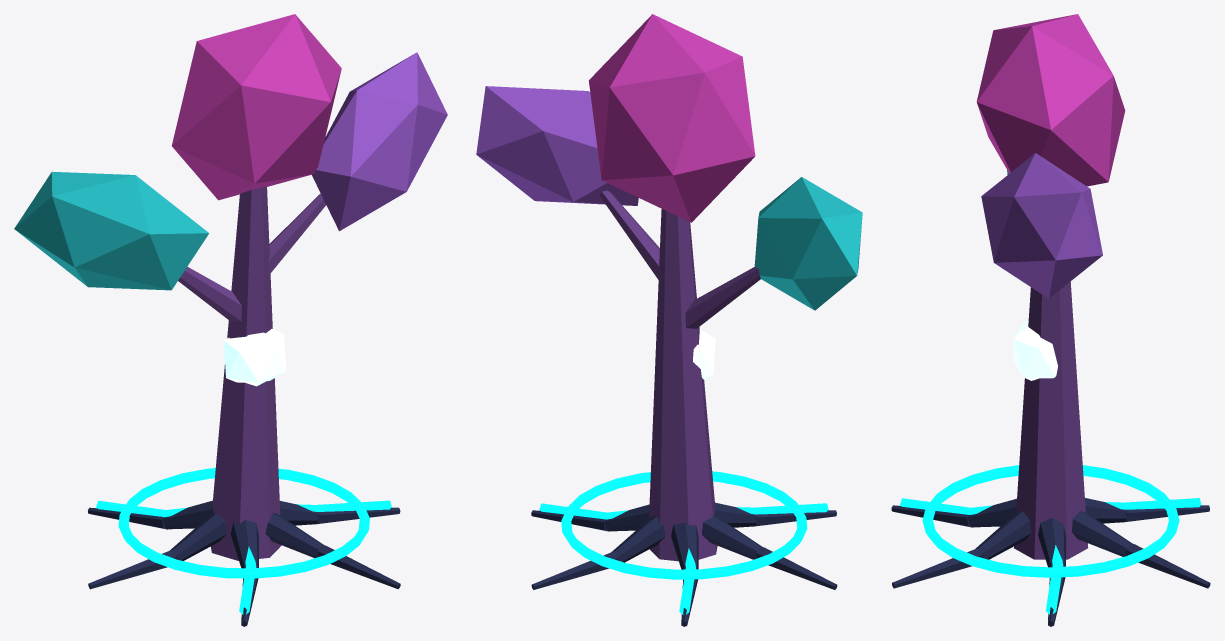
Rendered from seedling.glb.
The picture shows the model from 3 angles, left to right: view 1: azimuth 30°, elevation 25°; view 2: azimuth 150°, elevation 25°; view 3: azimuth 270°, elevation 25°; orthographic projection. The views are drawn at different scales.
Visible parts, largest first — view 1: Crystal_Crown, Crystal_Leaf_Left, Chrono_Sprout_Trunk, Crystal_Leaf_Right, Seedling_Time_Ring, Time_Core_Outer, Chrono_Sprout_Left, Chrono_Sprout_Right, Ancient_Root_A_04, Ancient_Root_A_06, Ancient_Root_A_05, Ancient_Root_A_03 (+7 smaller); view 2: Crystal_Crown, Chrono_Sprout_Trunk, Crystal_Leaf_Right, Crystal_Leaf_Left, Seedling_Time_Ring, Chrono_Sprout_Left, Chrono_Sprout_Right, Ancient_Root_A_04, Ancient_Root_A_02, Ancient_Root_A_03, Time_Core_Outer, Ancient_Root_B_02 (+7 smaller); view 3: Crystal_Crown, Chrono_Sprout_Trunk, Crystal_Leaf_Right, Seedling_Time_Ring, Time_Core_Outer, Ancient_Root_A_02, Ancient_Root_A_06, Ancient_Root_A_01, Ancient_Root_B_06, Ancient_Root_A_05, Ancient_Root_B_02, Ancient_Root_A_03 (+5 smaller).
Part boxes in pixels (left/top/right/bottom): Crystal_Crown: left=171, top=14, right=341, bottom=200; Crystal_Leaf_Left: left=14, top=171, right=209, bottom=290; Chrono_Sprout_Trunk: left=210, top=186, right=281, bottom=560; Crystal_Leaf_Right: left=312, top=52, right=447, bottom=231; Seedling_Time_Ring: left=118, top=468, right=369, bottom=578; Time_Core_Outer: left=223, top=329, right=286, bottom=386; Chrono_Sprout_Left: left=178, top=266, right=241, bottom=321; Chrono_Sprout_Right: left=268, top=193, right=325, bottom=275; Ancient_Root_A_04: left=170, top=512, right=226, bottom=560; Ancient_Root_A_06: left=265, top=512, right=323, bottom=558; Ancient_Root_A_05: left=230, top=520, right=258, bottom=568; Ancient_Root_A_03: left=163, top=500, right=213, bottom=529; Crystal_Crown: left=588, top=14, right=755, bottom=222; Chrono_Sprout_Trunk: left=649, top=209, right=717, bottom=561; Crystal_Leaf_Right: left=476, top=86, right=638, bottom=205; Crystal_Leaf_Left: left=754, top=177, right=862, bottom=310; Seedling_Time_Ring: left=561, top=471, right=807, bottom=579; Chrono_Sprout_Left: left=685, top=267, right=760, bottom=328; Chrono_Sprout_Right: left=599, top=190, right=659, bottom=280; Ancient_Root_A_04: left=702, top=514, right=762, bottom=559; Ancient_Root_A_02: left=611, top=515, right=665, bottom=562; Ancient_Root_A_03: left=671, top=522, right=698, bottom=569; Time_Core_Outer: left=654, top=329, right=715, bottom=379; Ancient_Root_B_02: left=531, top=551, right=618, bottom=589; Crystal_Crown: left=976, top=14, right=1125, bottom=186; Chrono_Sprout_Trunk: left=1014, top=281, right=1087, bottom=559; Crystal_Leaf_Right: left=981, top=153, right=1102, bottom=298; Seedling_Time_Ring: left=922, top=465, right=1179, bottom=577; Time_Core_Outer: left=1013, top=320, right=1057, bottom=380; Ancient_Root_A_02: left=1071, top=510, right=1131, bottom=556; Ancient_Root_A_06: left=975, top=511, right=1030, bottom=559; Ancient_Root_A_01: left=1038, top=518, right=1065, bottom=567; Ancient_Root_B_06: left=892, top=548, right=982, bottom=588; Ancient_Root_A_05: left=968, top=498, right=1016, bottom=527; Ancient_Root_B_02: left=1125, top=543, right=1210, bottom=588; Ancient_Root_A_03: left=1085, top=498, right=1127, bottom=523.
Size of the model in its own units: 1.64 by 2.05 by 1.09.
